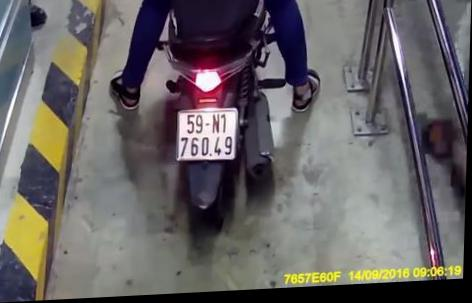License_Plate: (170, 102, 241, 172)
